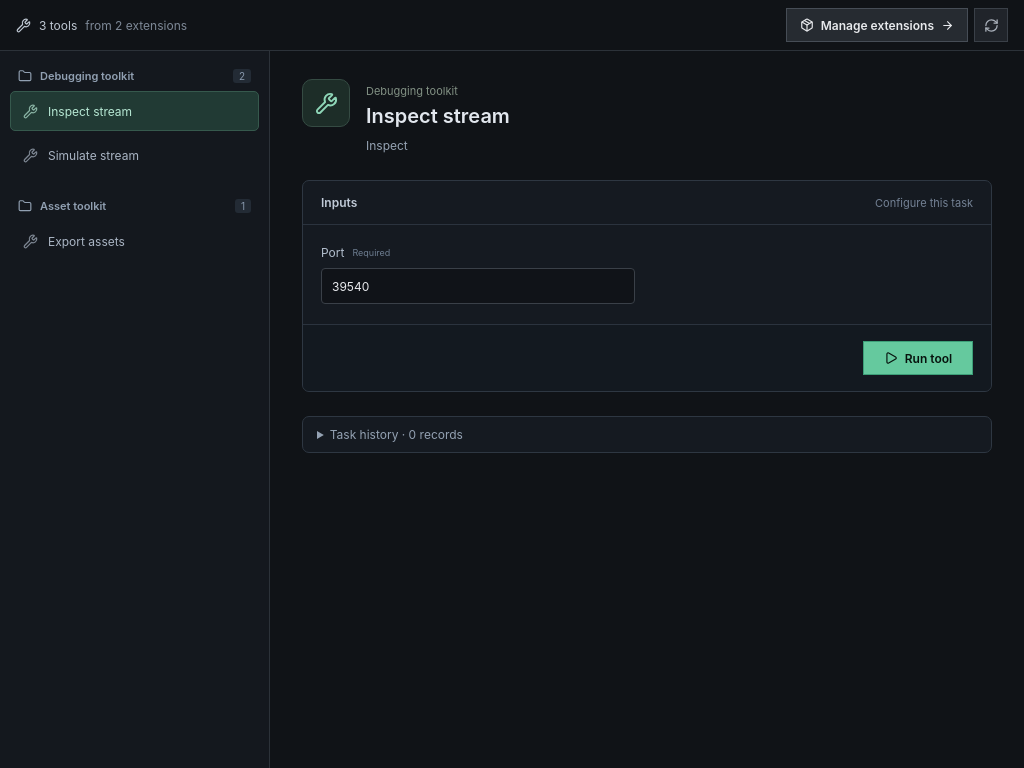
Test: groups tools by extension and selects another tool when the current extension disappears
Expected: the button "Inspect stream" is shown, [10,91,259,131]
Expected: the button "Simulate stream" is shown, [10,135,259,175]
Replace the text in the number field labelled "Port" with "40000": (478, 286) [321,268,635,304]
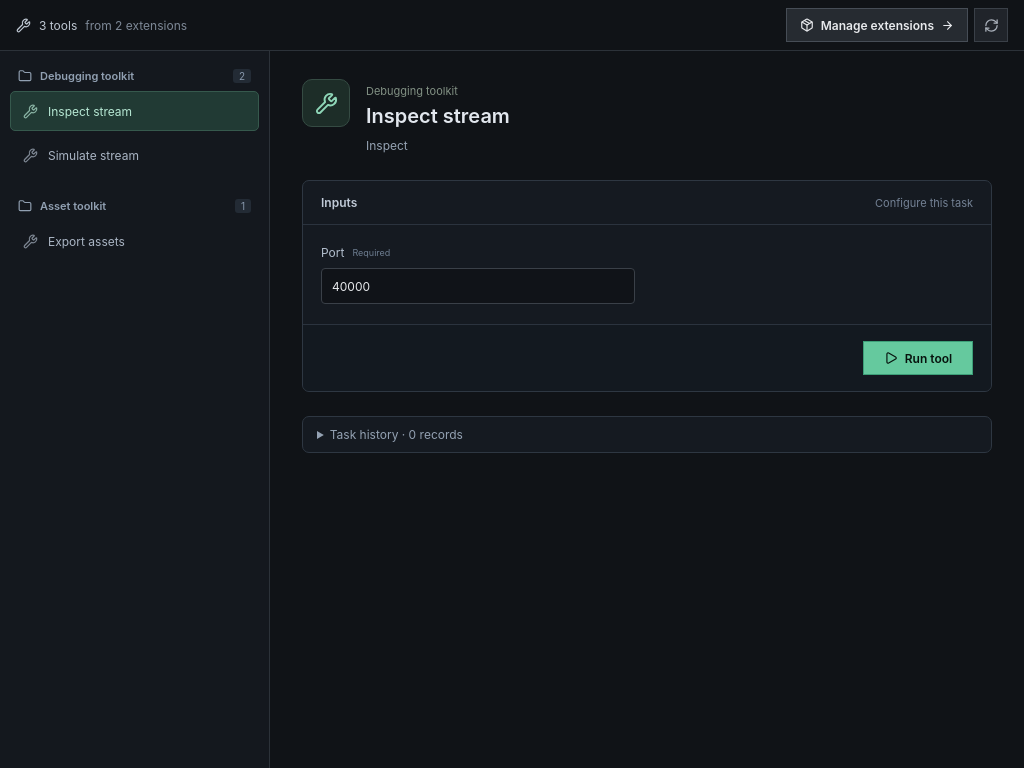
Click the button "Simulate stream": (134, 155) [10,135,259,175]
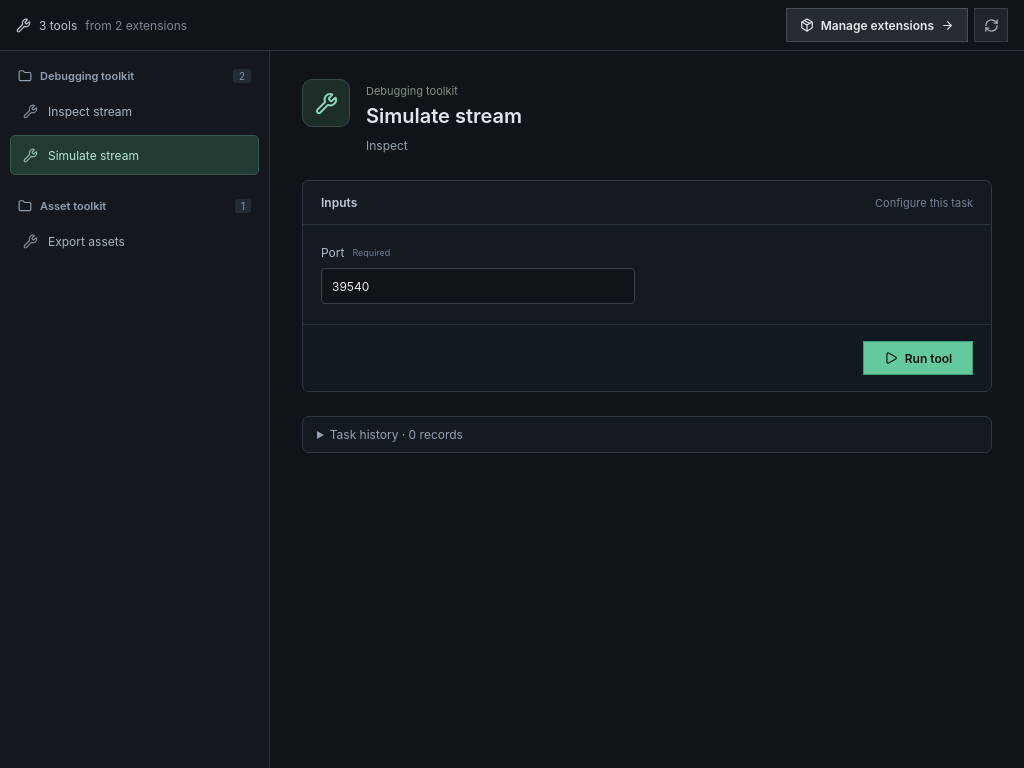
Now the number field labelled "Port" holds "39540", box [321,268,635,304]
Click the button named "Refresh tools": (991, 25) [974,8,1008,42]
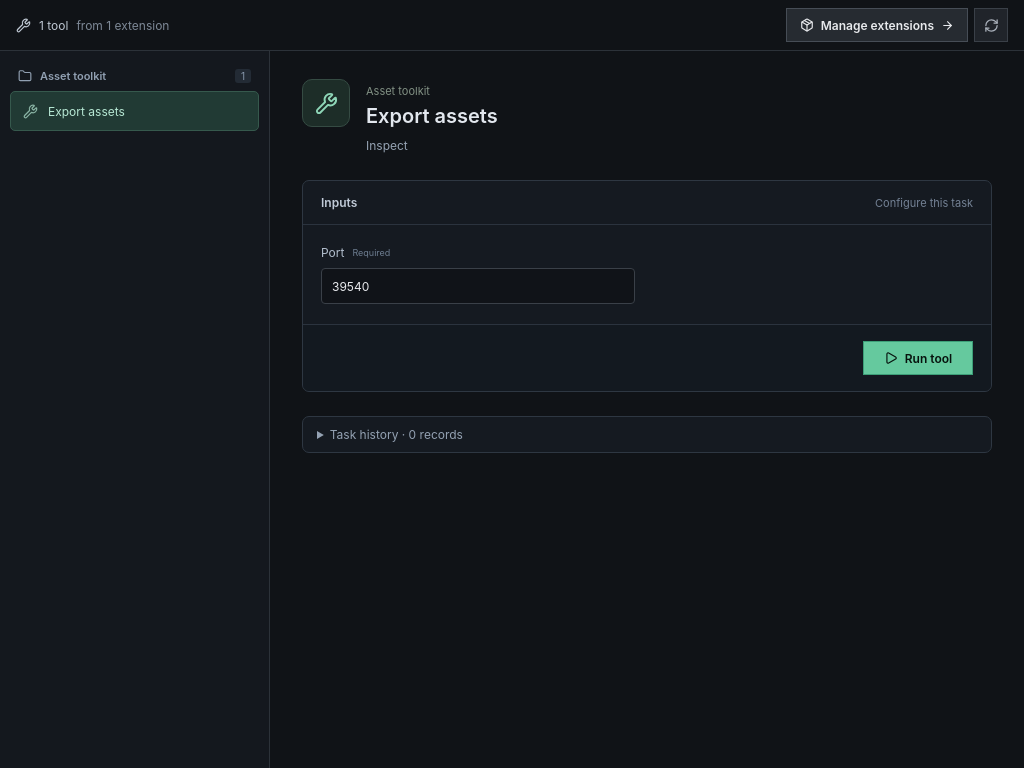
Now the heading "Debugging toolkit" is gone
Now the heading "Export assets" is shown, box [366,104,498,128]
